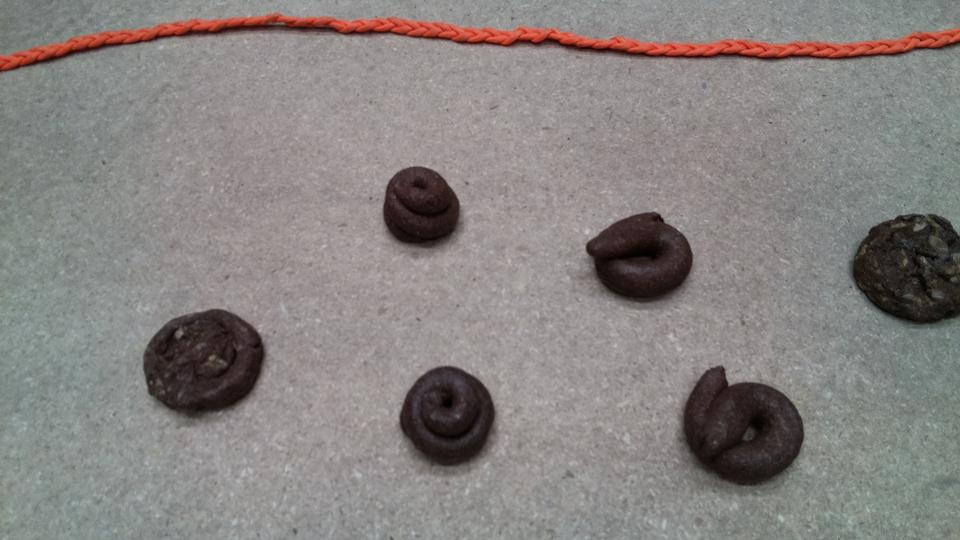poop: (679, 363, 809, 491), (139, 305, 269, 420), (849, 206, 960, 330), (397, 362, 498, 471), (585, 209, 699, 302), (376, 163, 467, 249)
rope: (4, 10, 958, 77)
